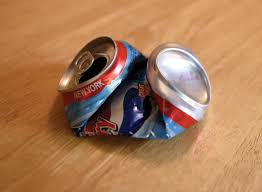can: (52, 30, 224, 148)
